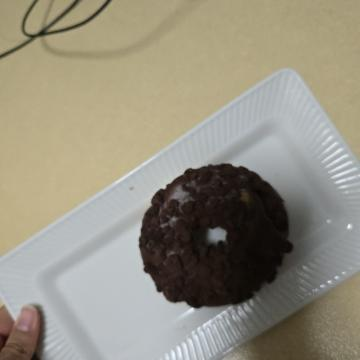doughnut: (158, 57, 321, 236)
